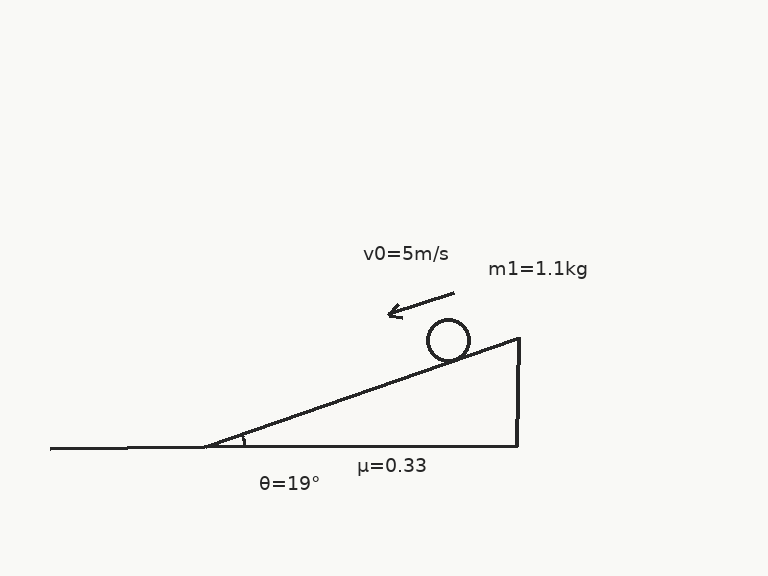ball: (424, 316, 472, 364)
ramp: (202, 337, 519, 449)
